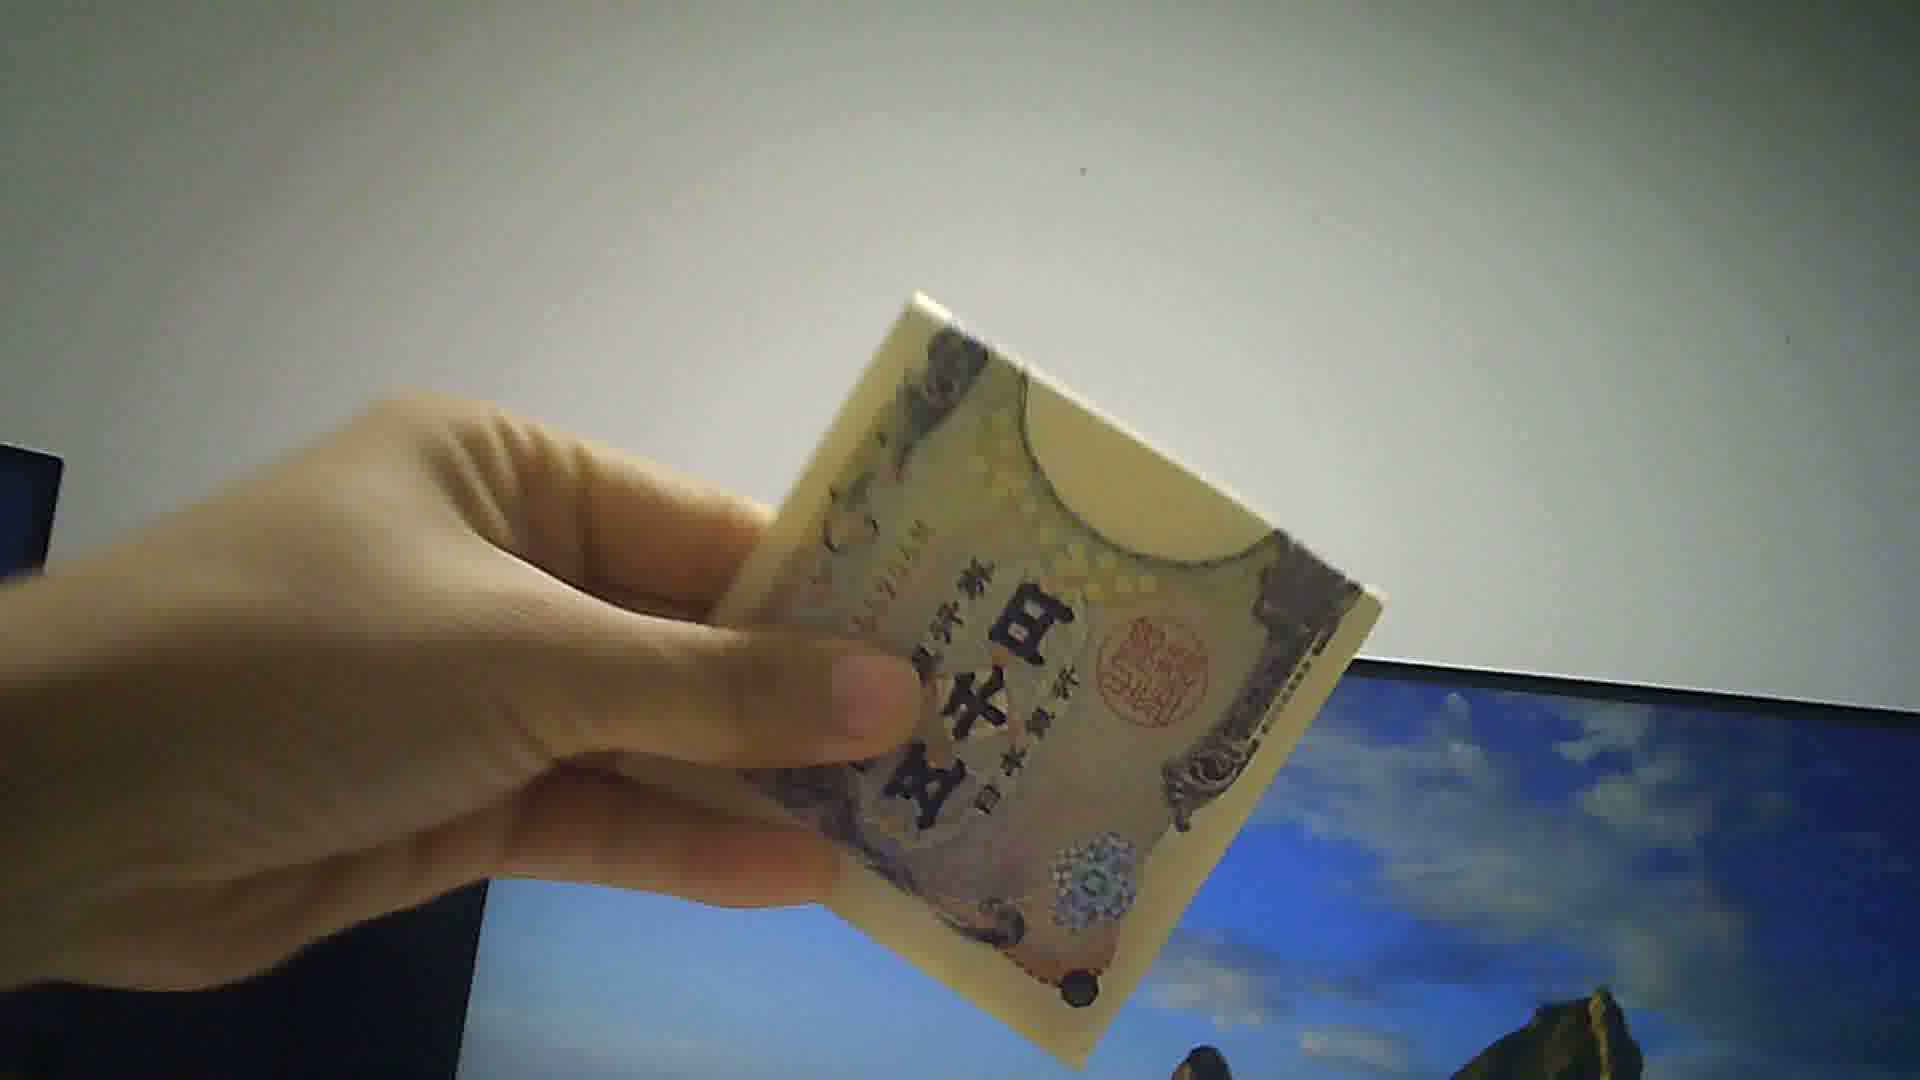5,000 Yen: (636, 287, 1375, 1064)
